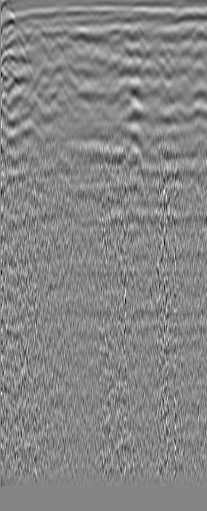오수: (25, 20, 52, 47)
우수: (180, 24, 206, 51)
